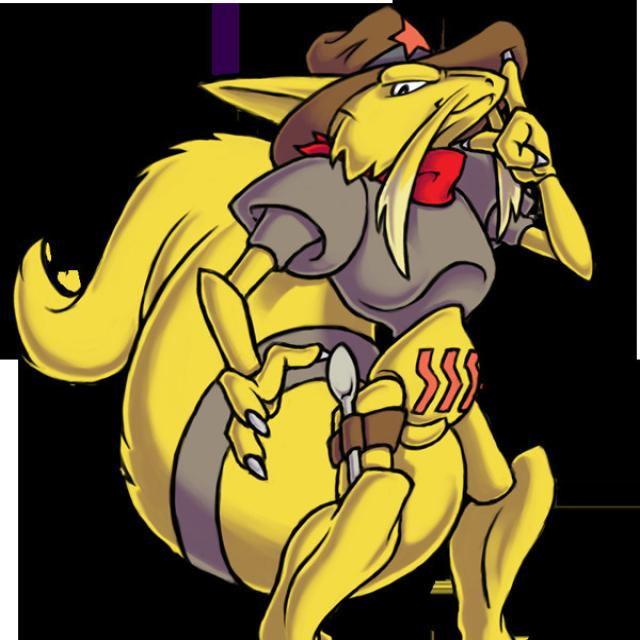Kadabra: (204, 57, 510, 614)
